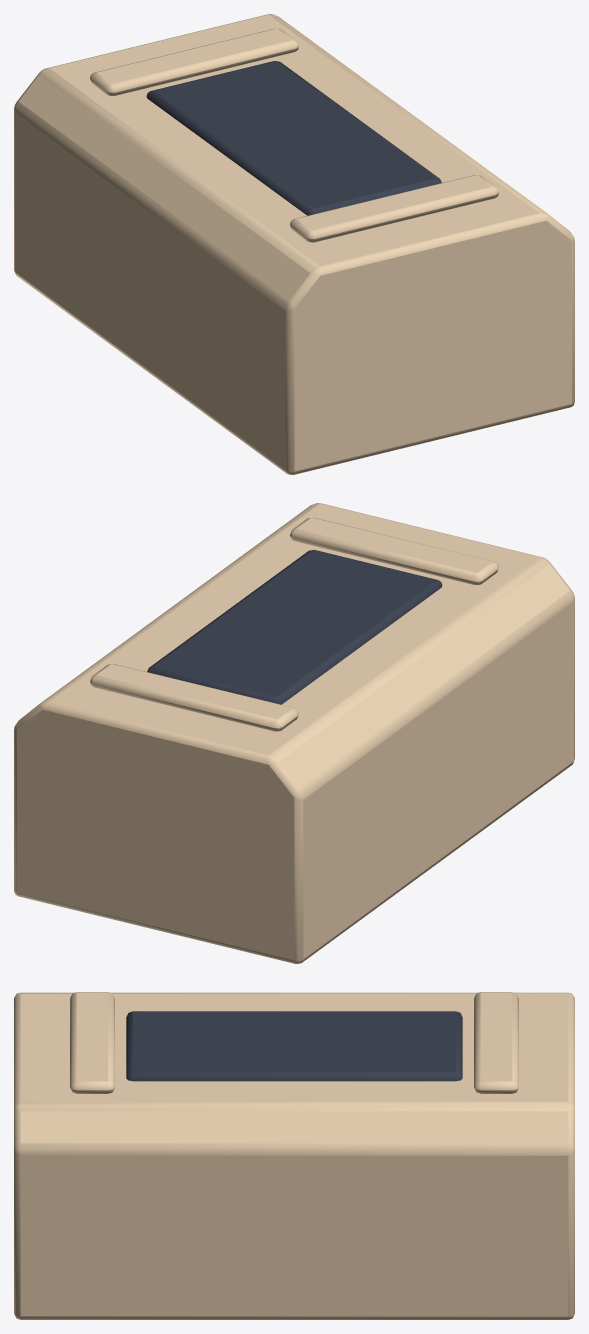
The model's file is ware_hitzekachel.fbx.
The picture shows the model from 3 angles, top to bottom: view 1: azimuth 30°, elevation 25°; view 2: azimuth 150°, elevation 25°; view 3: azimuth 270°, elevation 25°; orthographic projection.
Parts seen in each view (by area): view 1: ware_hitzekachel_Koerper; view 2: ware_hitzekachel_Koerper; view 3: ware_hitzekachel_Koerper.
Boxes of the visible parts, x1,y1,x2,y2 form: ware_hitzekachel_Koerper: [14, 14, 574, 474]; ware_hitzekachel_Koerper: [14, 503, 574, 963]; ware_hitzekachel_Koerper: [14, 992, 574, 1319].
Bounding box in the file's own units: 0.3 × 0.211 × 0.5.
